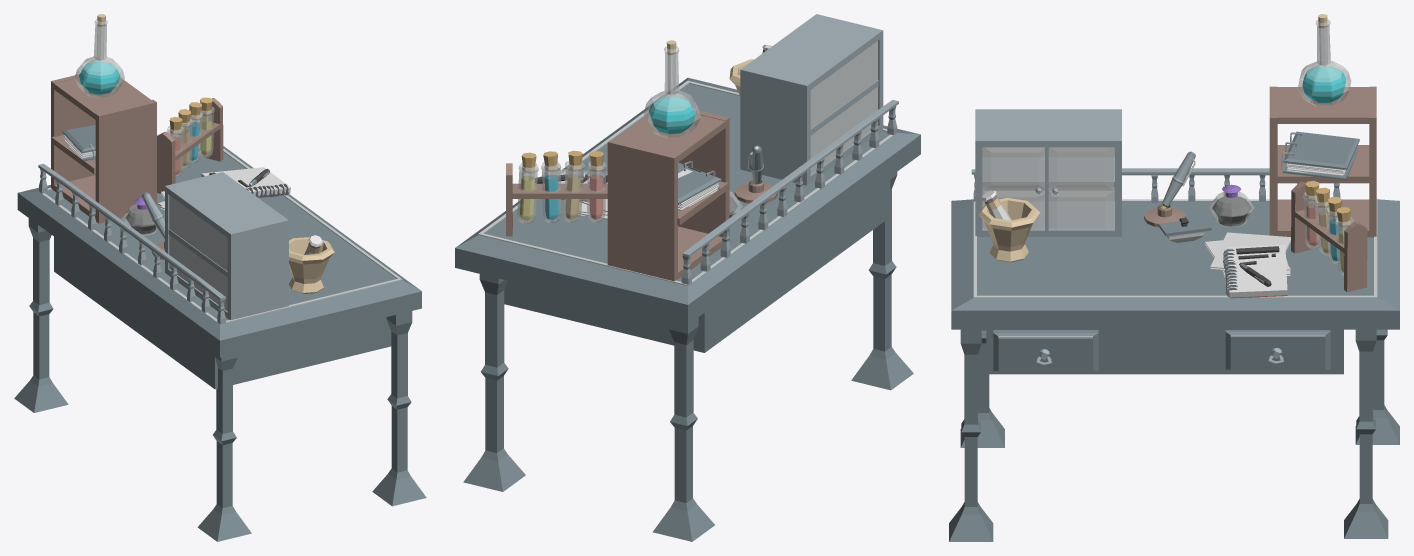
File: desk.fbx
The picture shows the model from 3 angles, left to right: view 1: azimuth 30°, elevation 25°; view 2: azimuth 150°, elevation 25°; view 3: azimuth 270°, elevation 25°; orthographic projection. The views are drawn at different scales.
Visible parts, largest first — view 1: polySurface3; view 2: polySurface3; view 3: polySurface3.
Part boxes in pixels (<box>): polySurface3: <box>14,14,426,541</box>; polySurface3: <box>455,14,920,541</box>; polySurface3: <box>949,14,1399,541</box>.
Bounding box in the file's own units: 0.6239 × 1.13 × 1.05.
